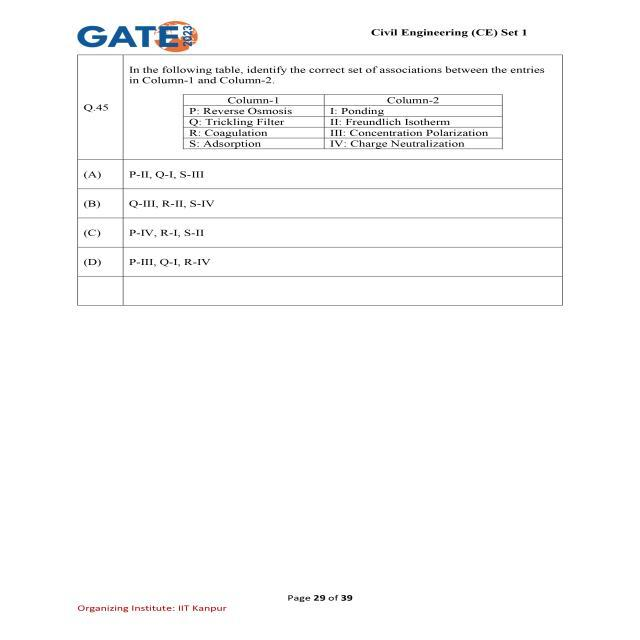Answer_Block: (76, 166, 562, 301)
Question_Answer_Block: (76, 55, 564, 306)
Question_Block: (78, 56, 562, 161)
Question_Paper_Area: (78, 54, 562, 306)
